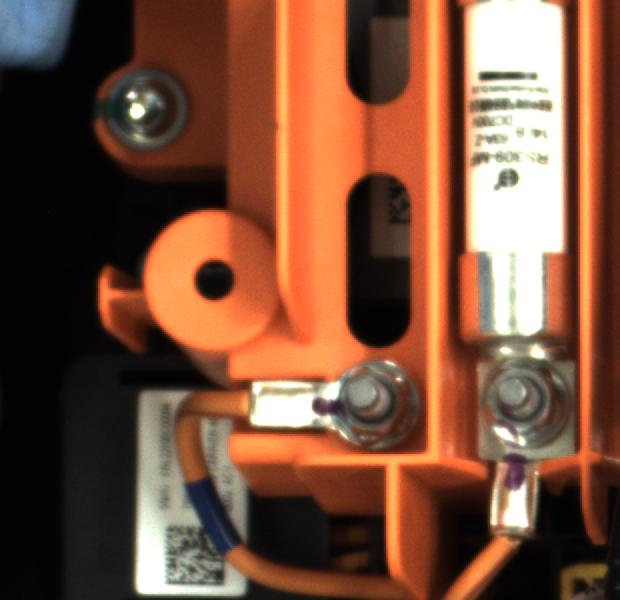screw_m: (99, 68, 198, 160)
screw_s: (471, 349, 579, 453), (322, 358, 427, 449)
